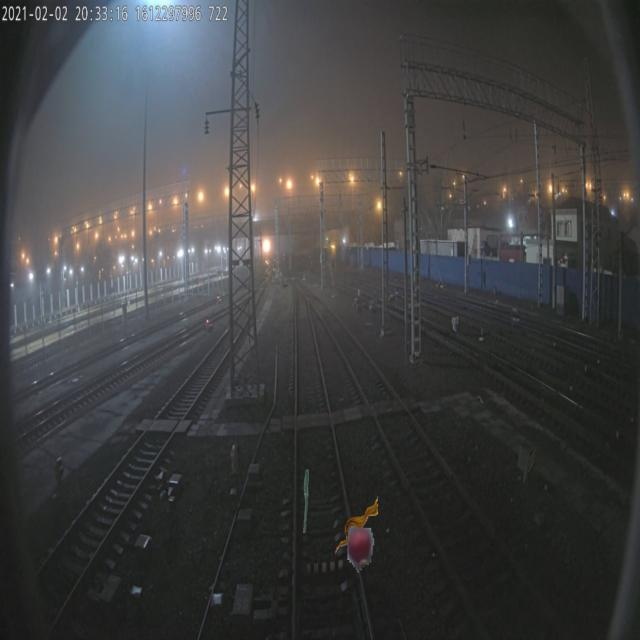balloon: (339, 520, 378, 584)
floating object: (334, 493, 378, 558), (303, 468, 309, 532)
